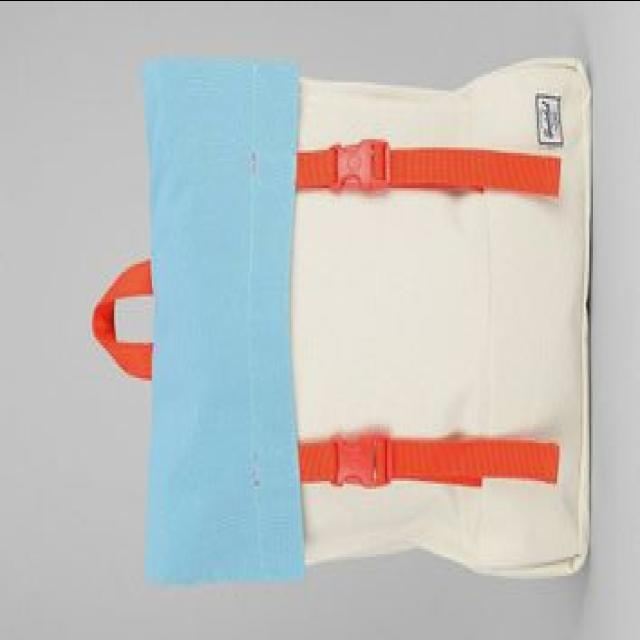backpack: (92, 55, 593, 584)
